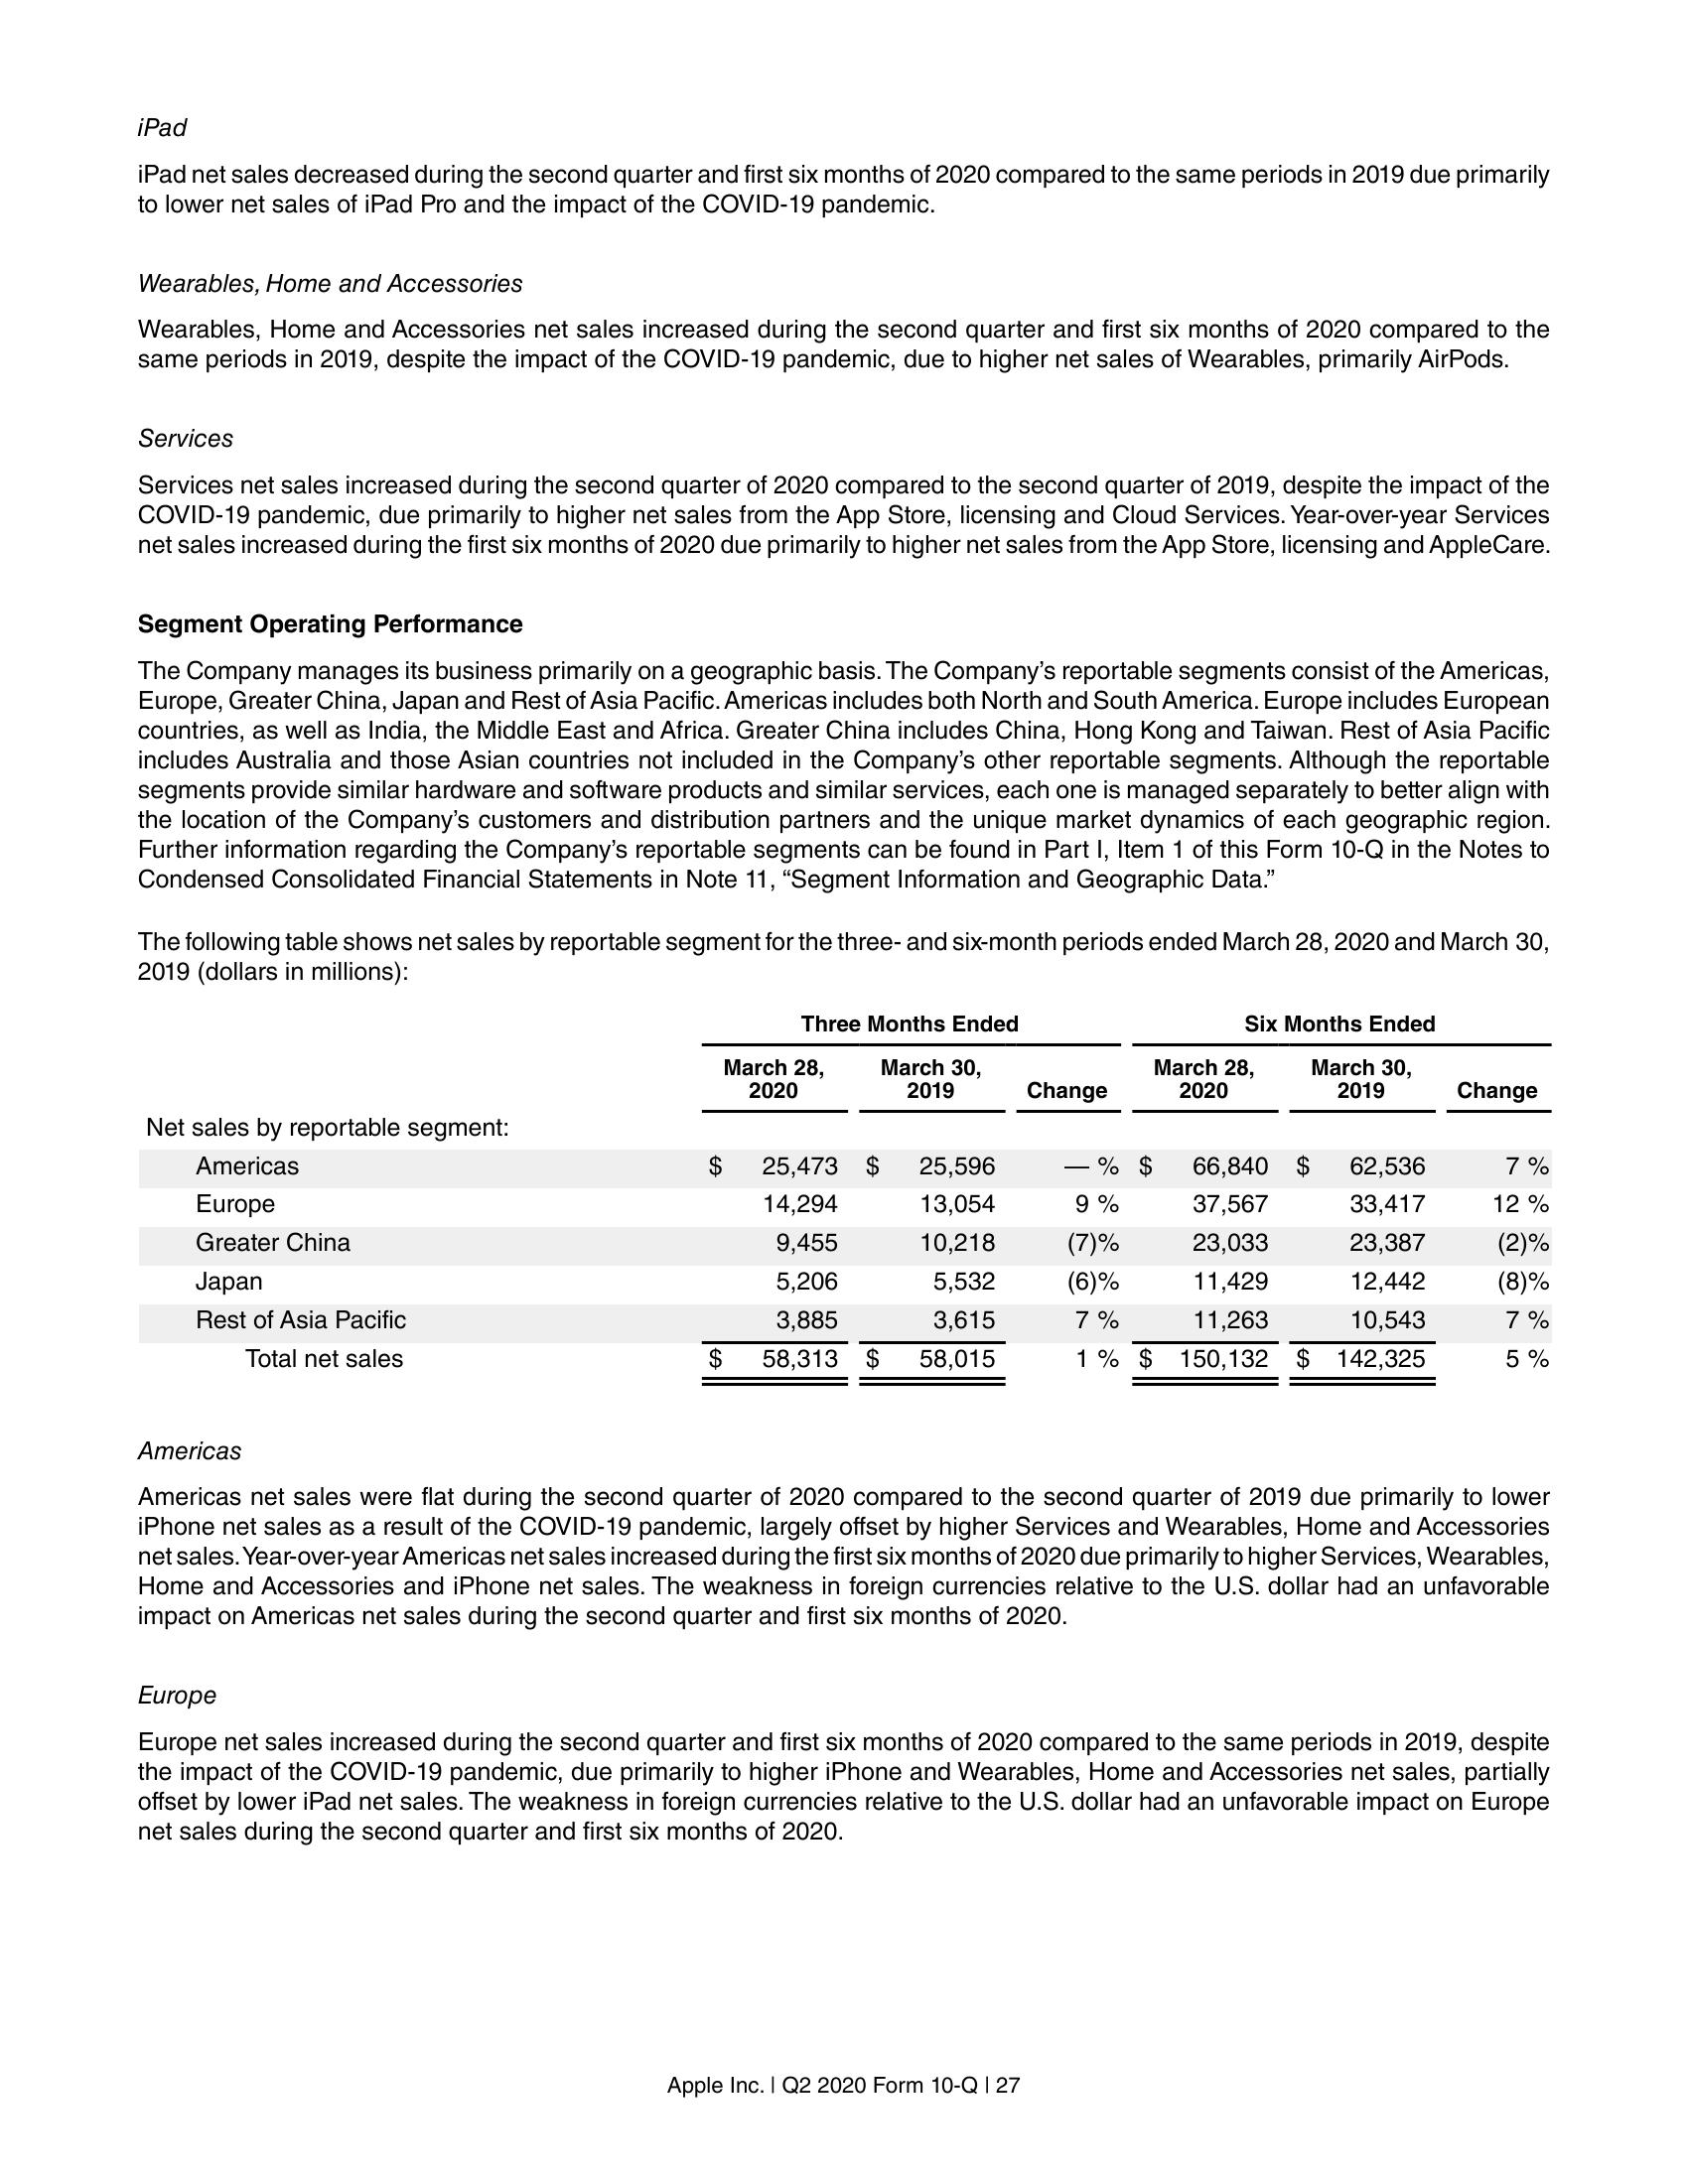table: (144, 1012, 1551, 1388)
